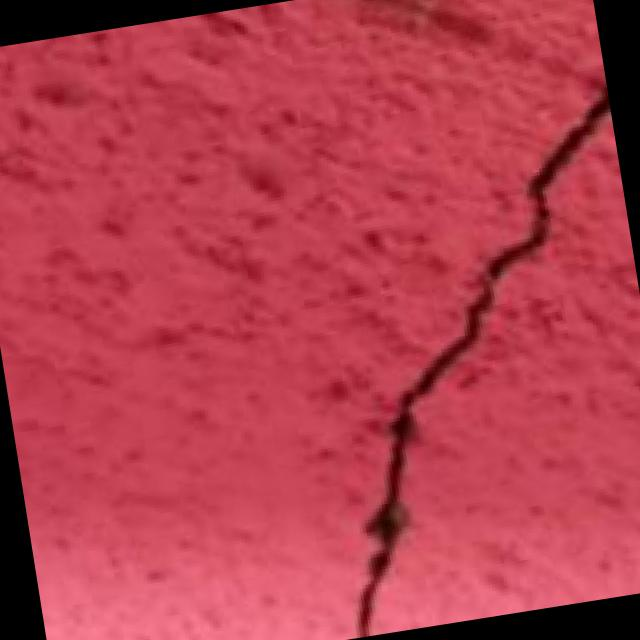crack: (141, 43, 640, 640)
